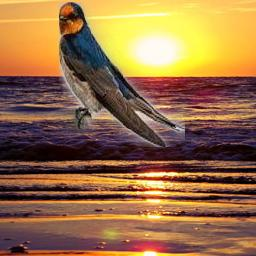Swallow: (59, 3, 185, 148)
